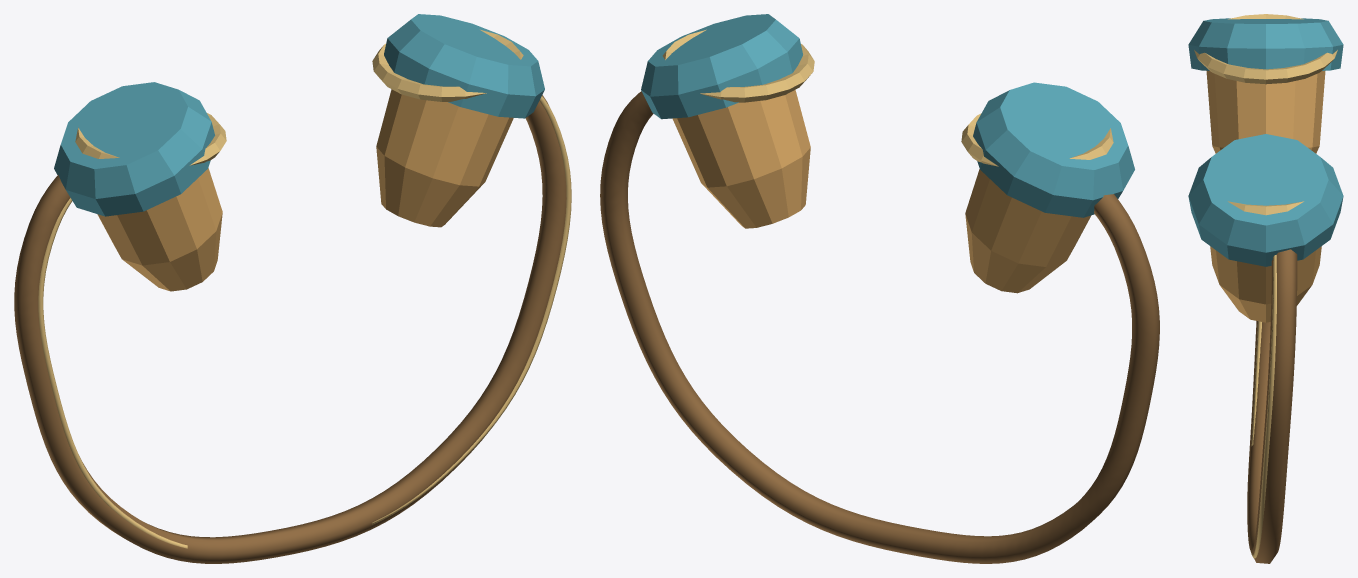
The model's file is earplugs.obj.
The picture shows the model from 3 angles, left to right: view 1: azimuth 30°, elevation 25°; view 2: azimuth 150°, elevation 25°; view 3: azimuth 270°, elevation 25°; orthographic projection. The views are drawn at different scales.
Parts seen in each view (by area): view 1: C_ContinuousCord.001_earplugs_woven_cord, B_FlangedCap_-1.001_earplugs_blue_flange, A_CorkPlug_1.001_earplugs_pressed_cork, B_FlangedCap_1.001_earplugs_blue_flange, A_CorkPlug_-1.001_earplugs_pressed_cork, C_BraidHighlight.001_earplugs_braid_light, B_Rim_1.001_earplugs_braid_light, B_Rim_-1.001_earplugs_braid_light; view 2: C_ContinuousCord.001_earplugs_woven_cord, B_FlangedCap_-1.001_earplugs_blue_flange, A_CorkPlug_1.001_earplugs_pressed_cork, B_FlangedCap_1.001_earplugs_blue_flange, A_CorkPlug_-1.001_earplugs_pressed_cork, B_Rim_1.001_earplugs_braid_light, B_Rim_-1.001_earplugs_braid_light; view 3: B_FlangedCap_1.001_earplugs_blue_flange, C_ContinuousCord.001_earplugs_woven_cord, A_CorkPlug_-1.001_earplugs_pressed_cork, B_FlangedCap_-1.001_earplugs_blue_flange, A_CorkPlug_1.001_earplugs_pressed_cork, B_Rim_-1.001_earplugs_braid_light, C_BraidHighlight.001_earplugs_braid_light, B_Rim_1.001_earplugs_braid_light.
Boxes of the visible parts, x1,y1,x2,y2 form: C_ContinuousCord.001_earplugs_woven_cord: [14, 95, 566, 563]; B_FlangedCap_-1.001_earplugs_blue_flange: [54, 82, 214, 216]; A_CorkPlug_1.001_earplugs_pressed_cork: [376, 89, 513, 227]; B_FlangedCap_1.001_earplugs_blue_flange: [384, 14, 544, 118]; A_CorkPlug_-1.001_earplugs_pressed_cork: [97, 168, 222, 291]; C_BraidHighlight.001_earplugs_braid_light: [38, 96, 571, 548]; B_Rim_1.001_earplugs_braid_light: [372, 29, 523, 101]; B_Rim_-1.001_earplugs_braid_light: [75, 113, 226, 165]; C_ContinuousCord.001_earplugs_woven_cord: [600, 91, 1159, 563]; B_FlangedCap_-1.001_earplugs_blue_flange: [973, 82, 1134, 217]; A_CorkPlug_1.001_earplugs_pressed_cork: [672, 89, 810, 228]; B_FlangedCap_1.001_earplugs_blue_flange: [641, 14, 802, 119]; A_CorkPlug_-1.001_earplugs_pressed_cork: [965, 169, 1091, 293]; B_Rim_1.001_earplugs_braid_light: [662, 29, 814, 102]; B_Rim_-1.001_earplugs_braid_light: [961, 113, 1113, 166]; B_FlangedCap_1.001_earplugs_blue_flange: [1188, 134, 1343, 266]; C_ContinuousCord.001_earplugs_woven_cord: [1247, 249, 1297, 563]; A_CorkPlug_-1.001_earplugs_pressed_cork: [1206, 70, 1325, 153]; B_FlangedCap_-1.001_earplugs_blue_flange: [1188, 18, 1343, 70]; A_CorkPlug_1.001_earplugs_pressed_cork: [1210, 246, 1321, 322]; B_Rim_-1.001_earplugs_braid_light: [1194, 14, 1337, 84]; C_BraidHighlight.001_earplugs_braid_light: [1250, 255, 1276, 558]; B_Rim_1.001_earplugs_braid_light: [1228, 201, 1303, 215].
Bounding box in the file's own units: 1.98 × 1.68 × 0.52.
